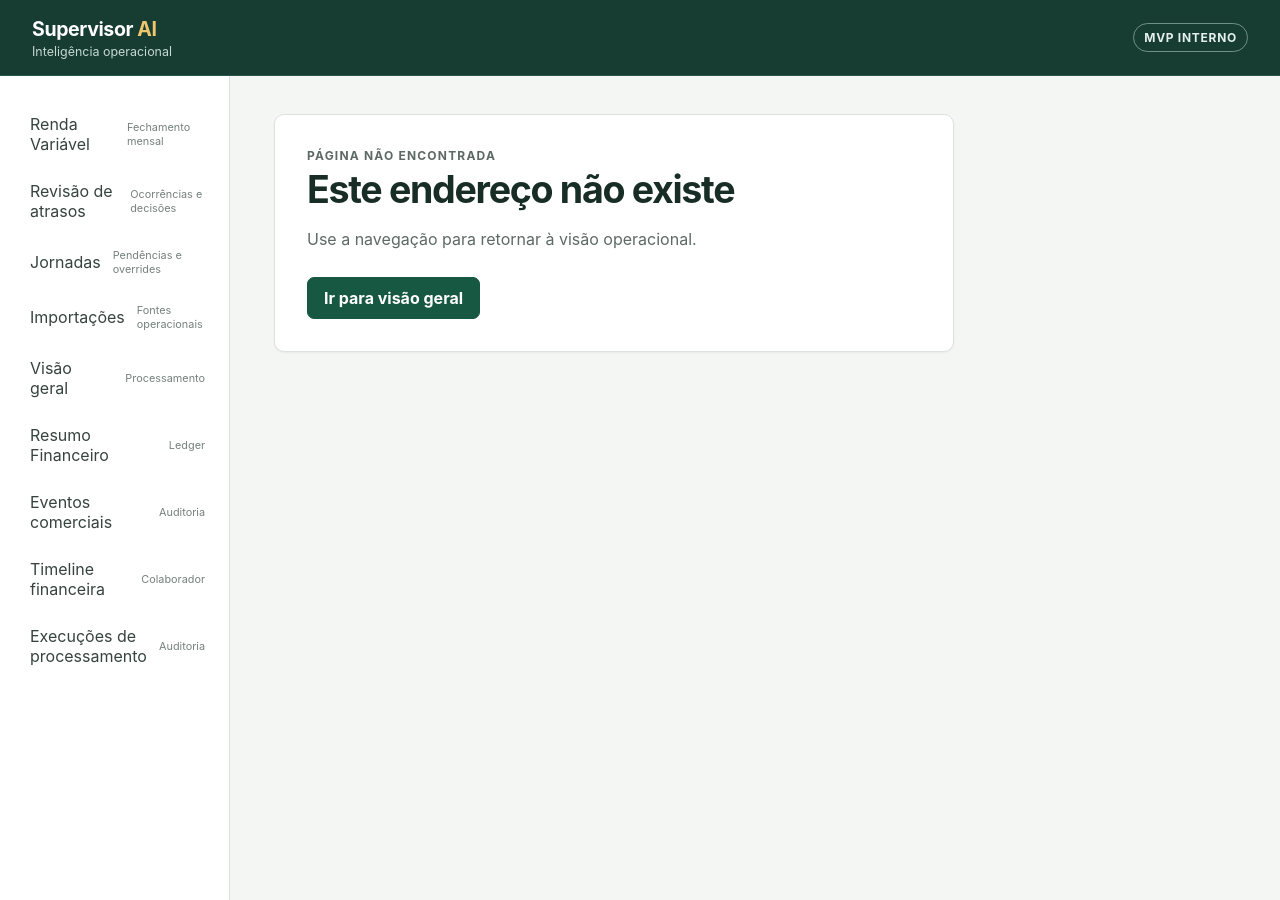
unknown route returns to processing health through client navigation
expect the heading "Este endereço não existe" is shown: met, box [307,167,734,212]
Click the link "Ir para visão geral" at (394, 298), box [307,277,480,319]
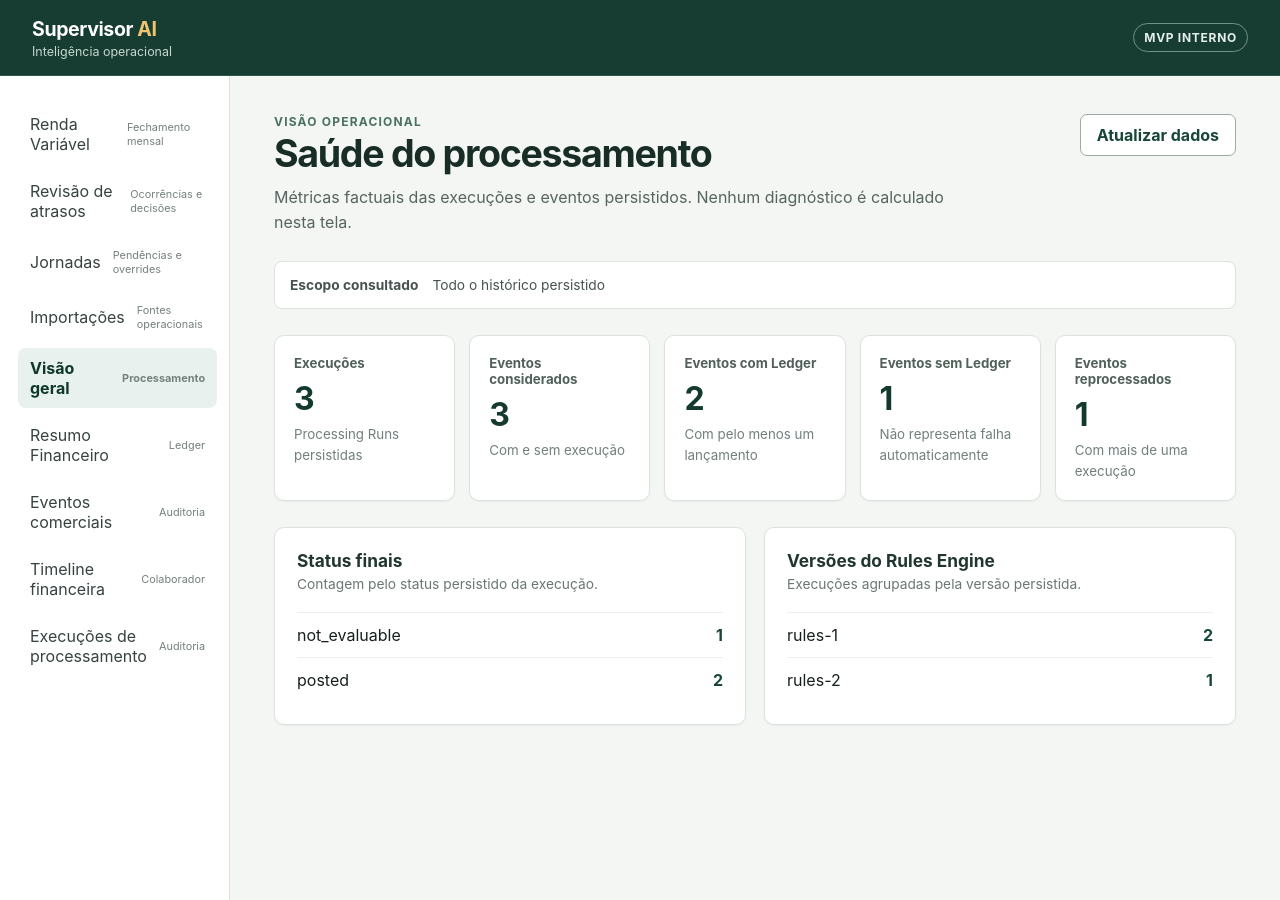
expect the heading "Saúde do processamento" is shown: met, box [274,131,712,176]
